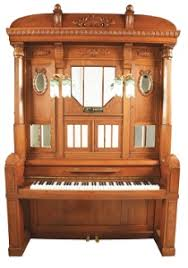Piano: (4, 10, 181, 259)
